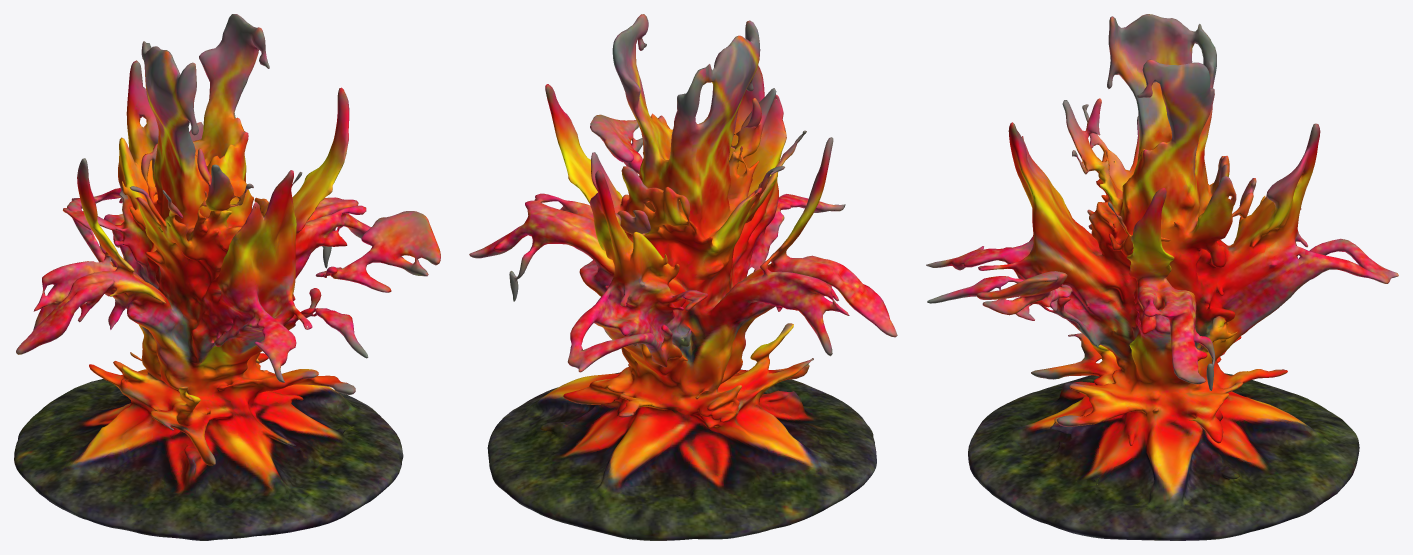
File: fire_flowa.glb
The picture shows the model from 3 angles, left to right: view 1: azimuth 30°, elevation 25°; view 2: azimuth 150°, elevation 25°; view 3: azimuth 270°, elevation 25°; orthographic projection.
Parts seen in each view (by area): view 1: geometry_0; view 2: geometry_0; view 3: geometry_0.
Boxes of the visible parts, x1=… form: geometry_0: x1=14, y1=14, x2=440, y2=540; geometry_0: x1=469, y1=14, x2=897, y2=540; geometry_0: x1=926, y1=14, x2=1398, y2=540.
Bounding box in the file's own units: 0.4454 × 0.4659 × 0.4672.
Materials: 1 (1 with a texture image).
